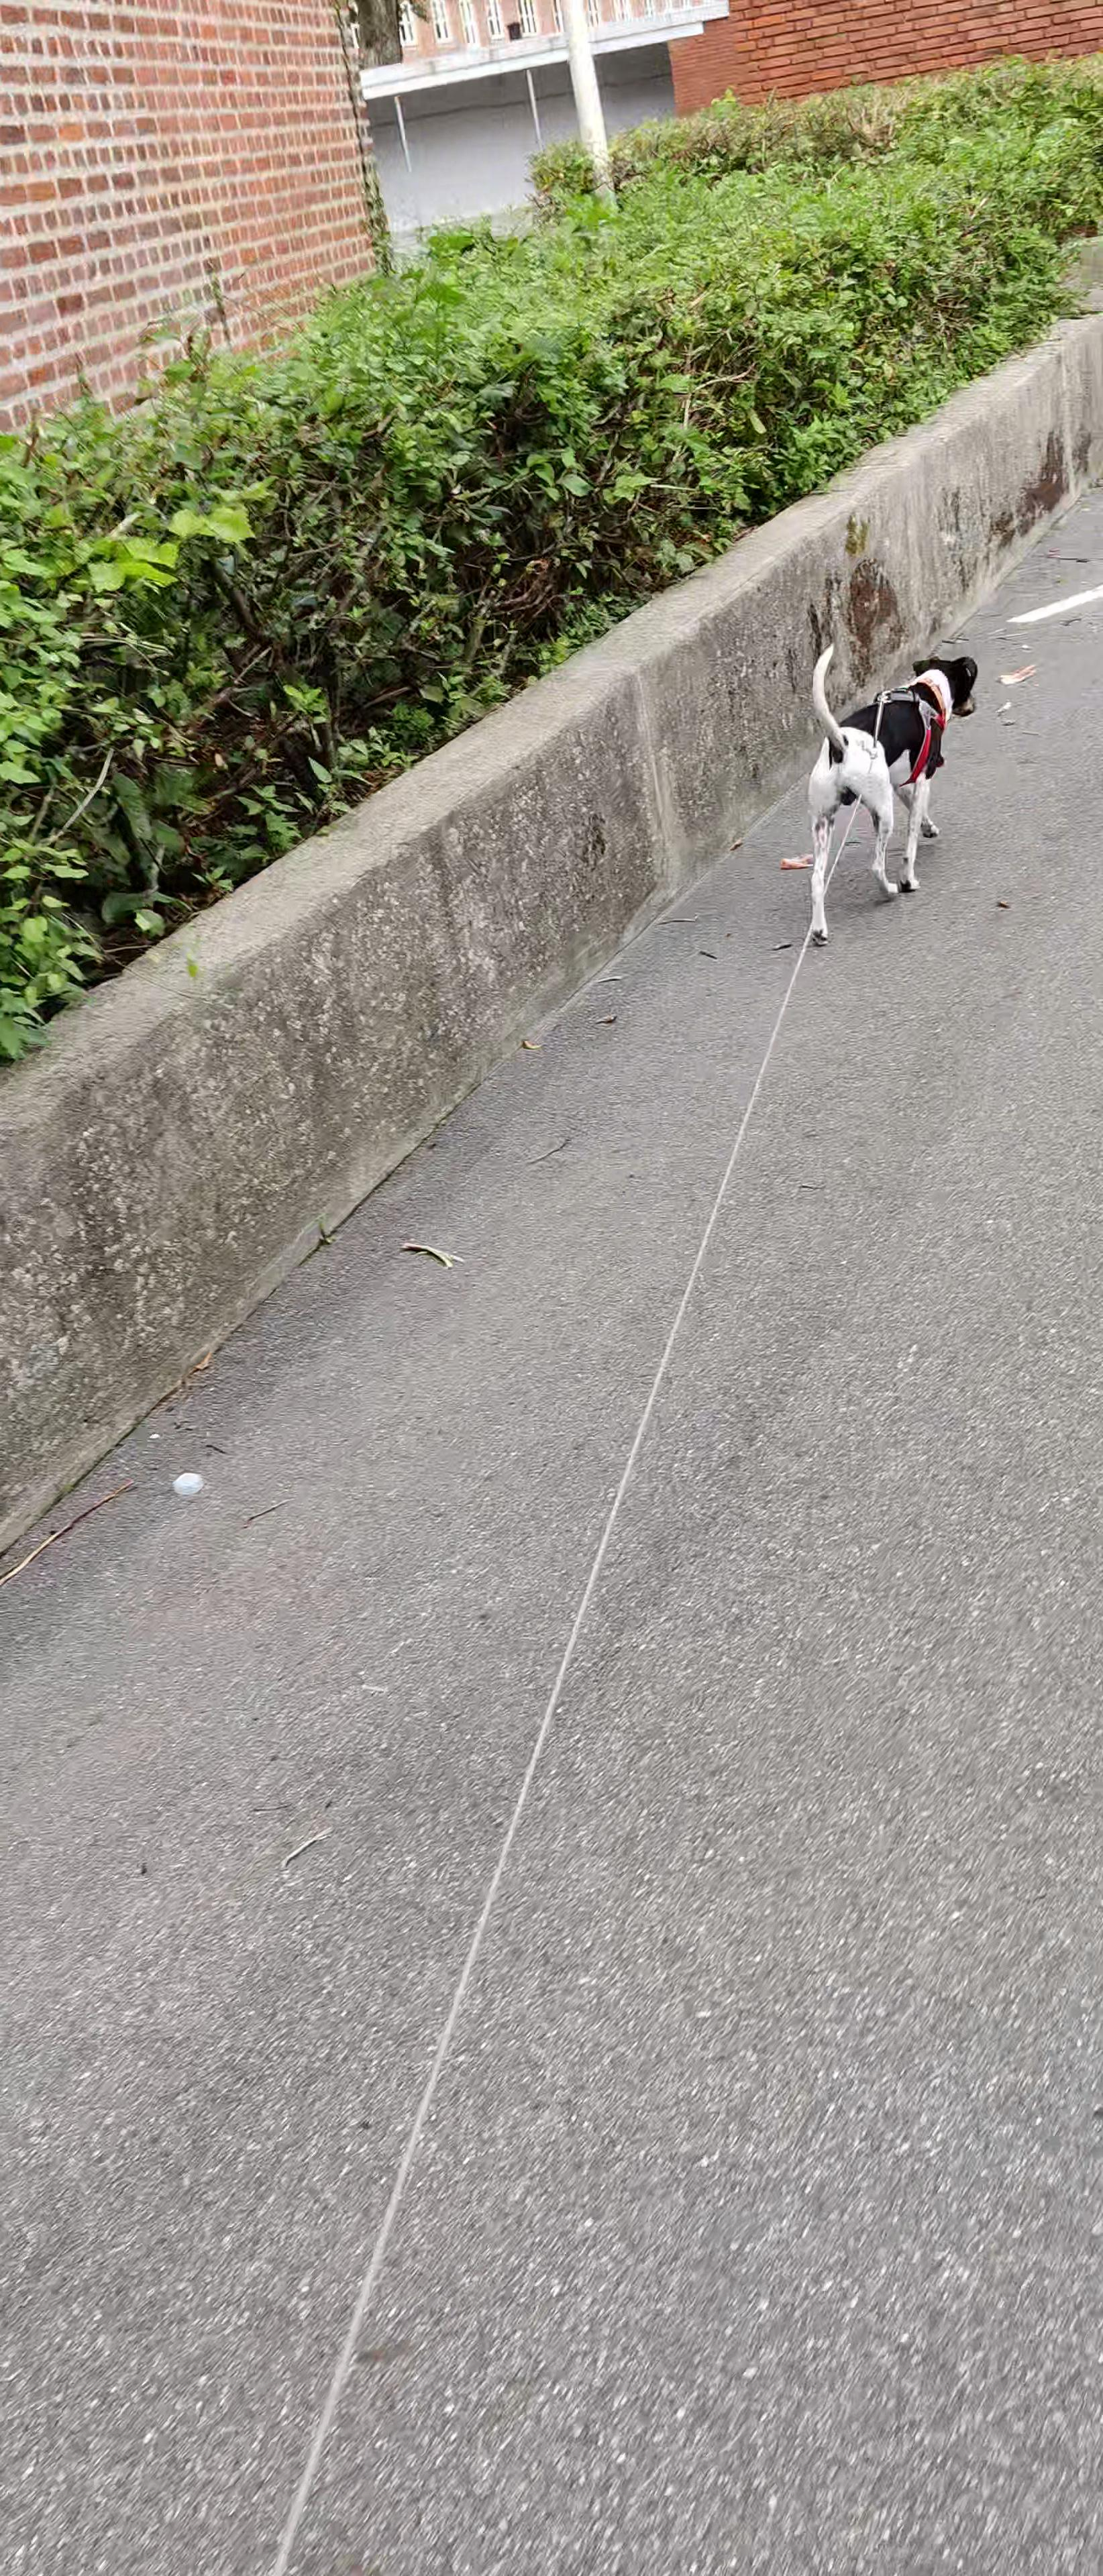Dog: (804, 639, 980, 946)
